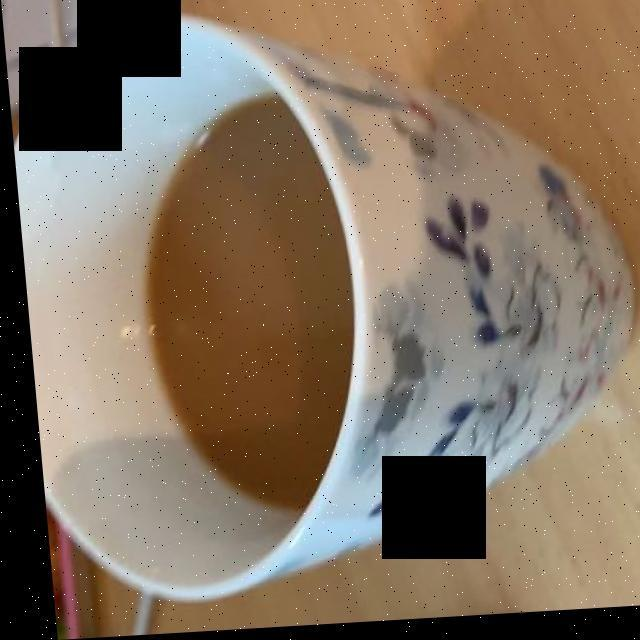coffee: (142, 104, 342, 517)
